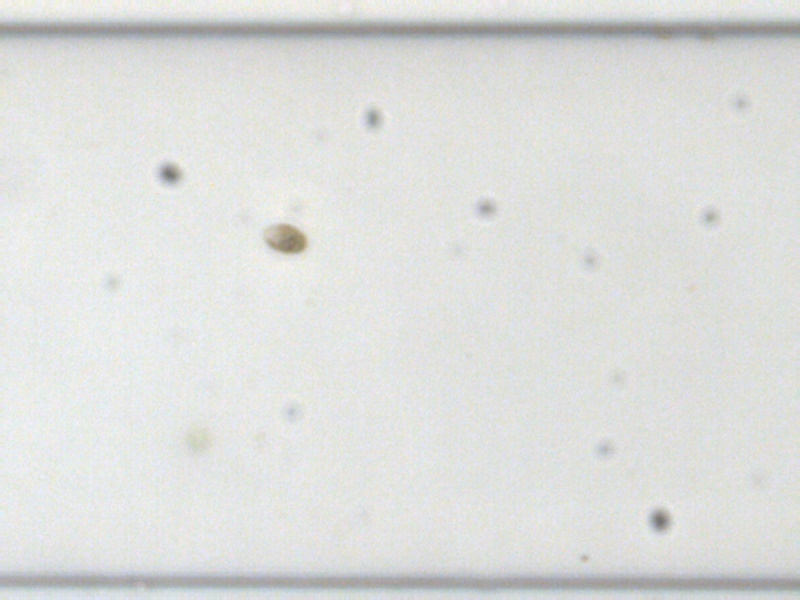Chlorella: (181, 423, 210, 451)
Dunaliella salina: (255, 219, 308, 256)
